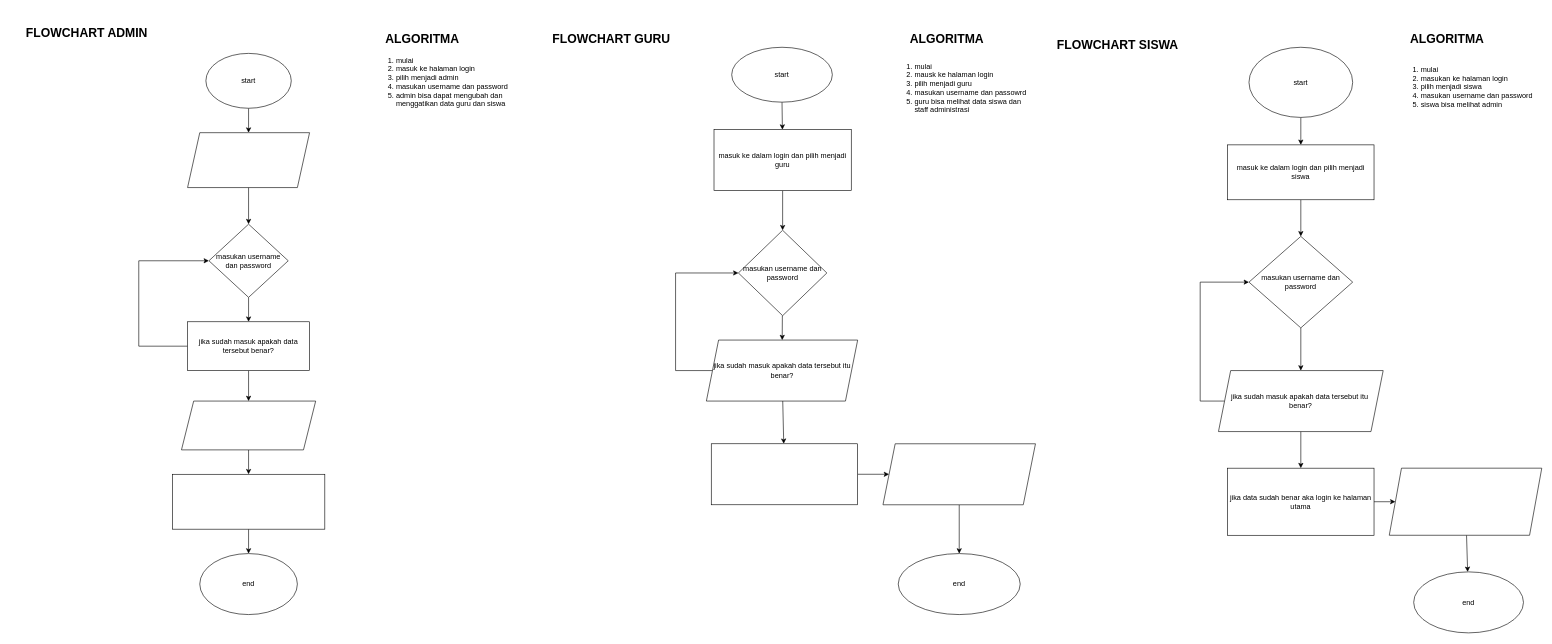
This 1552x644 diagram has some shape labels left out. Each missing label, with the box of its shape:
admin dapat mengubah dan bisa menggatikan crud data siswa dan guru: (172, 474, 325, 529)
guru dapat melihat staff administrasi dan data siswa: (882, 443, 1035, 505)
jika sudah benar memasukan data akan login ke halaman utama: (711, 443, 858, 505)
jika sudah benar memasukan datanya akan login ke halaman utama: (181, 400, 316, 450)
masuk ke dalam login dan pilih menjadi admin: (187, 132, 310, 188)
siswa dapat melihat admin staff dan admin sekolah: (1389, 468, 1542, 535)
